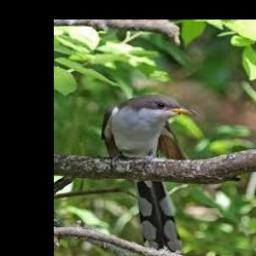Cuckoo: (102, 93, 196, 251)
